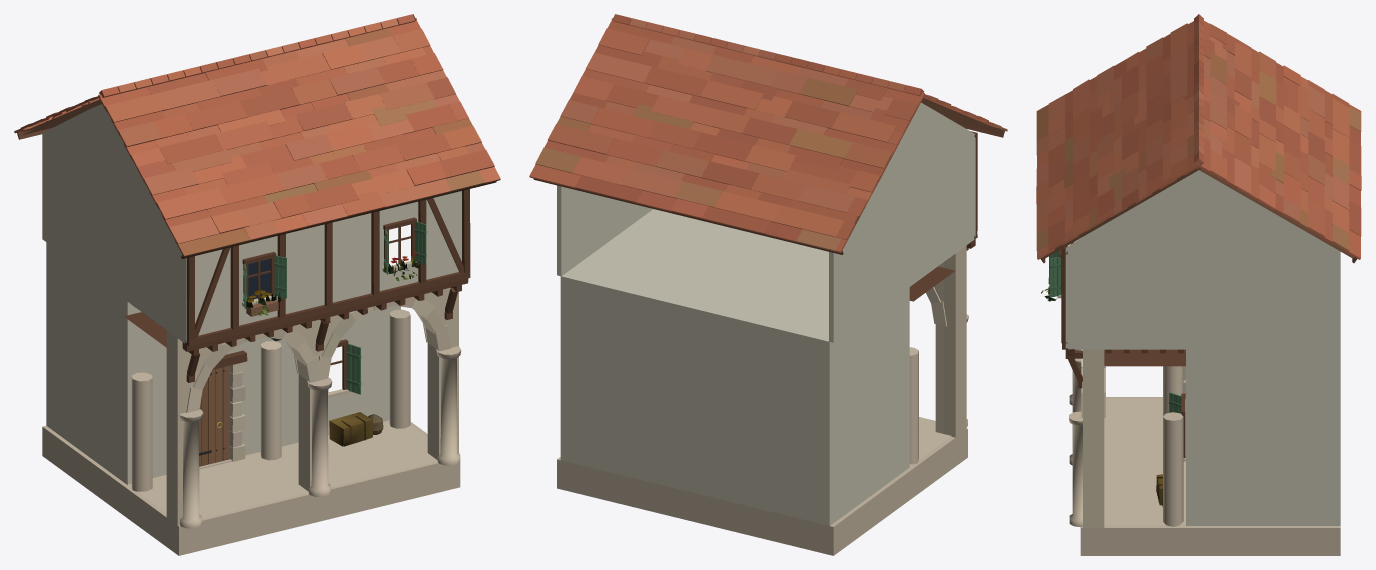
Rendered from soportal_arcos.glb.
3 renders of one model, left to right at view 1: azimuth 30°, elevation 25°; view 2: azimuth 150°, elevation 25°; view 3: azimuth 270°, elevation 25°, orthographic. The views are drawn at different scales.
Visible parts, largest first — view 1: soportal_arcos_fijo, soportal_arcos_piezas, soportal_arcos_vegetacion; view 2: soportal_arcos_fijo; view 3: soportal_arcos_fijo.
Part boxes in pixels (box(x1,y1,x2,y2)): soportal_arcos_fijo: box(14, 14, 500, 555); soportal_arcos_piezas: box(329, 412, 383, 446); soportal_arcos_vegetacion: box(246, 253, 419, 315); soportal_arcos_fijo: box(529, 14, 1007, 555); soportal_arcos_fijo: box(1036, 14, 1361, 555).
Bounding box in the file's own units: 8.1 × 10.37 × 7.56.
